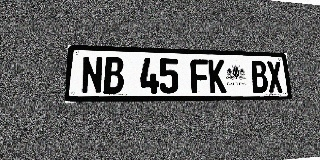4: (140, 57, 159, 93)
5: (159, 58, 179, 93)
B: (103, 56, 124, 94), (250, 60, 268, 93)
F: (190, 59, 209, 93)
K: (208, 59, 227, 93)
N: (81, 56, 103, 94)
X: (266, 61, 284, 92)
